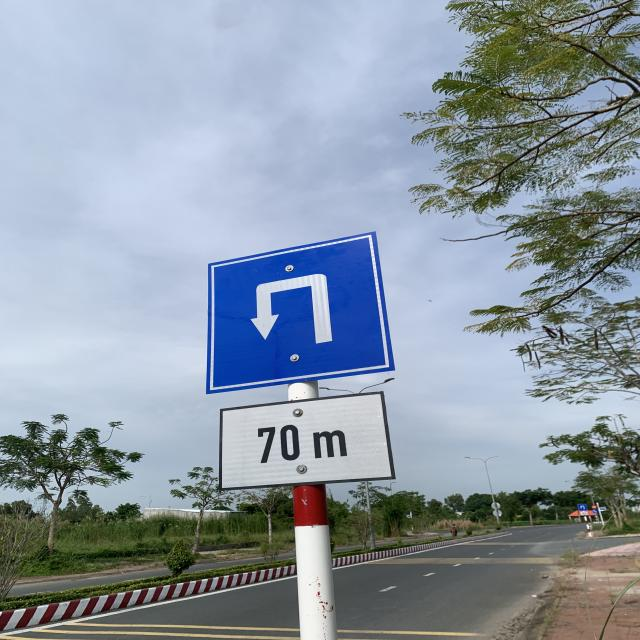Den_Giao_Thong: (208, 228, 394, 392)
